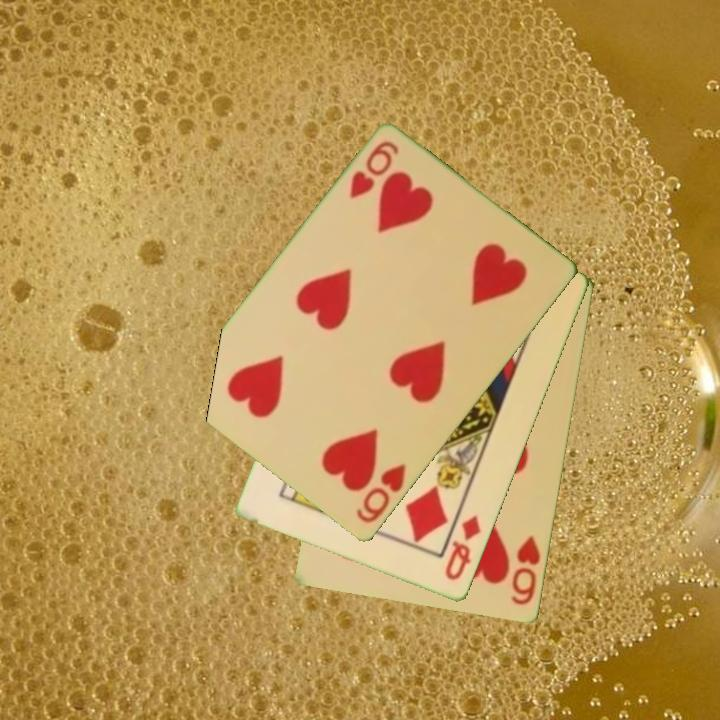6h: (352, 461, 409, 527), (346, 138, 402, 203), (508, 532, 544, 609)
Qd: (441, 512, 484, 584)
